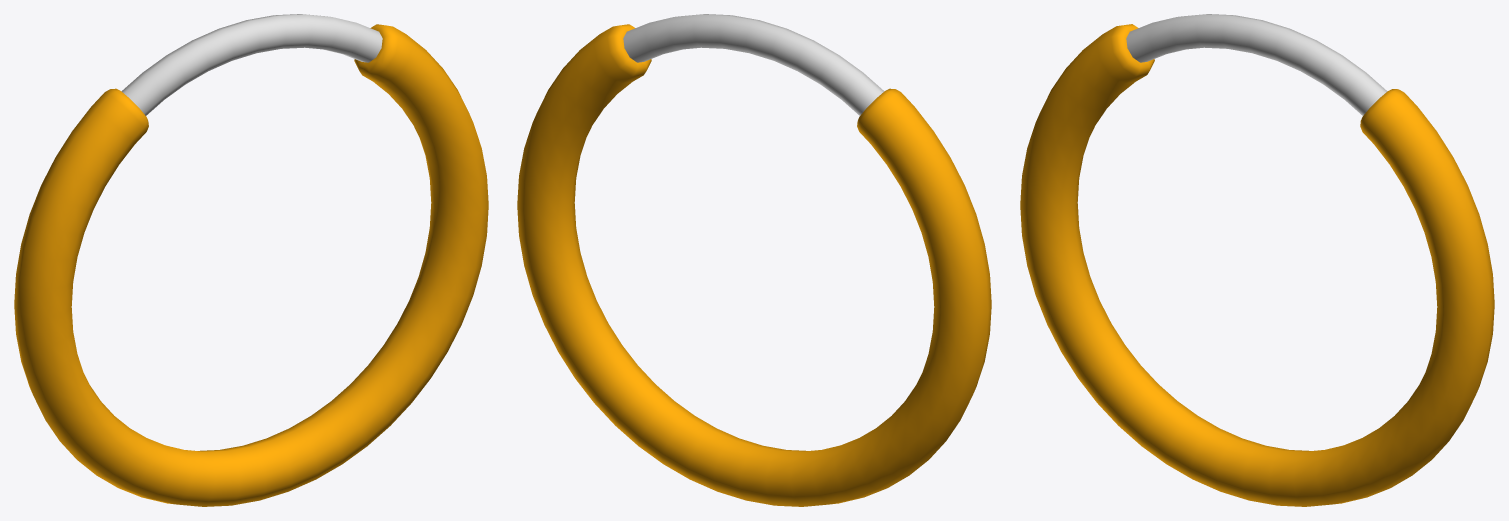
File: Arc_MESH.fbx
3 views of the same model, side by side, from view 1: azimuth 30°, elevation 25°; view 2: azimuth 150°, elevation 25°; view 3: azimuth 330°, elevation 25° (orthographic).
Parts seen in each view (by area): view 1: Arc; view 2: Arc; view 3: Arc.
Part boxes in pixels (x1,y1,x2,y2): Arc: (14,14,488,506); Arc: (517,14,991,506); Arc: (1020,14,1494,506).
Size of the model in its own units: 312 by 305 by 31.8.
Materials: 1 (1 with a texture image).
